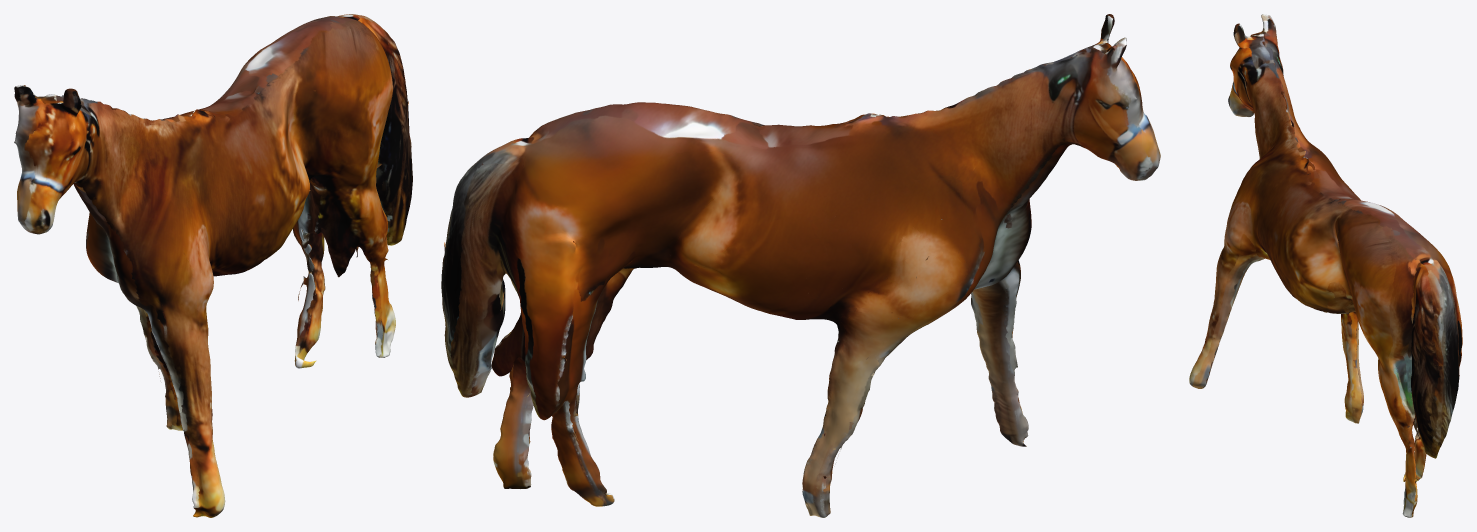
The model's file is adulto.glb.
3 renders of one model, left to right at view 1: azimuth 30°, elevation 25°; view 2: azimuth 150°, elevation 25°; view 3: azimuth 270°, elevation 25°, orthographic. The views are drawn at different scales.
Parts seen in each view (by area): view 1: mesh; view 2: mesh; view 3: mesh.
Boxes of the visible parts, x1=… form: mesh: x1=14, y1=14, x2=412, y2=517; mesh: x1=441, y1=14, x2=1160, y2=517; mesh: x1=1189, y1=14, x2=1462, y2=517.
Size of the model in its own units: 1.56 by 1.3 by 0.9562.
1 material, 1 textured.
